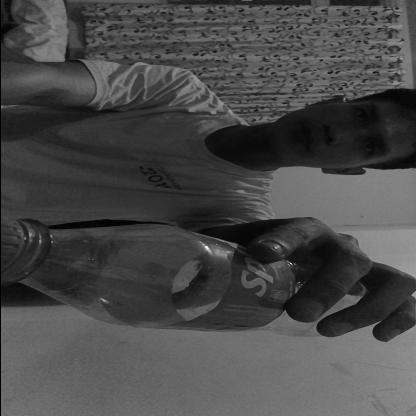plastic_bottles: (0, 219, 363, 339)
